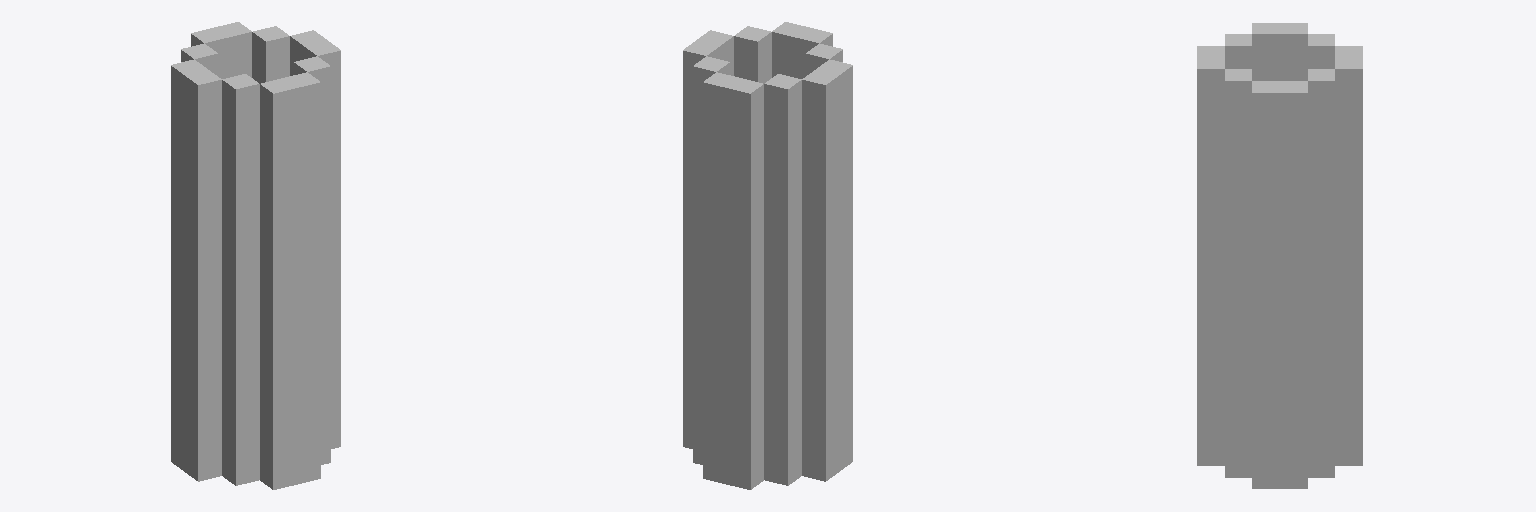
Rendered from st_pillar_mid_corr.obj.
The picture shows the model from 3 angles: view 1: azimuth 30°, elevation 25°; view 2: azimuth 150°, elevation 25°; view 3: azimuth 270°, elevation 25°; orthographic projection.
Visible parts, largest first — view 1: ringthinh; view 2: ringthinh; view 3: ringthinh.
Part boxes in pixels (left/top/right/bottom): ringthinh: left=171, top=22, right=340, bottom=489; ringthinh: left=683, top=22, right=852, bottom=489; ringthinh: left=1197, top=23, right=1362, bottom=488.
Bounding box in the file's own units: 0.381 × 1.01 × 0.381.